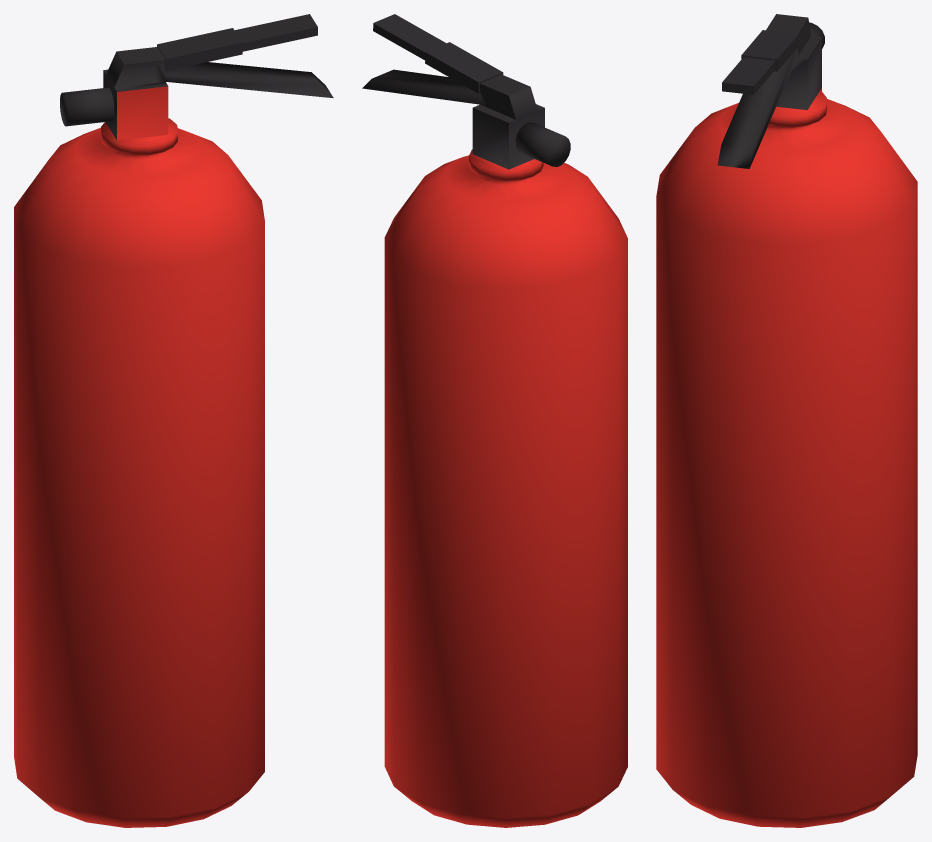
The model's file is fire_executor.fbx.
The picture shows the model from 3 angles, left to right: view 1: azimuth 30°, elevation 25°; view 2: azimuth 150°, elevation 25°; view 3: azimuth 270°, elevation 25°; orthographic projection. The views are drawn at different scales.
Parts seen in each view (by area): view 1: Cylinder.004; view 2: Cylinder.004; view 3: Cylinder.004.
Boxes of the visible parts, left/top/right/bottom form: Cylinder.004: left=14, top=14, right=333, bottom=827; Cylinder.004: left=362, top=14, right=627, bottom=827; Cylinder.004: left=656, top=14, right=917, bottom=827.
Bounding box in the file's own units: 0.0908 × 0.2331 × 0.0713.
